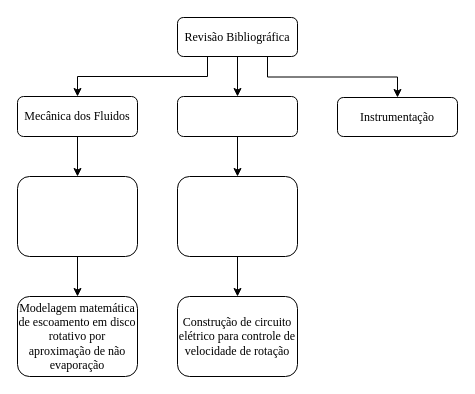
The diagram is 475 pixels wide and 394 high, and some of its shapes have lost their labels. Here are the shapes that lost their labels. From the top down, the centre of each, then its label:
the point at 237,116: Sistemas de Controle
the point at 77,216: Equações da Continuidade e de Navier-Stokes
the point at 237,216: Lei de Kirchhoff e Transformada de Laplace
